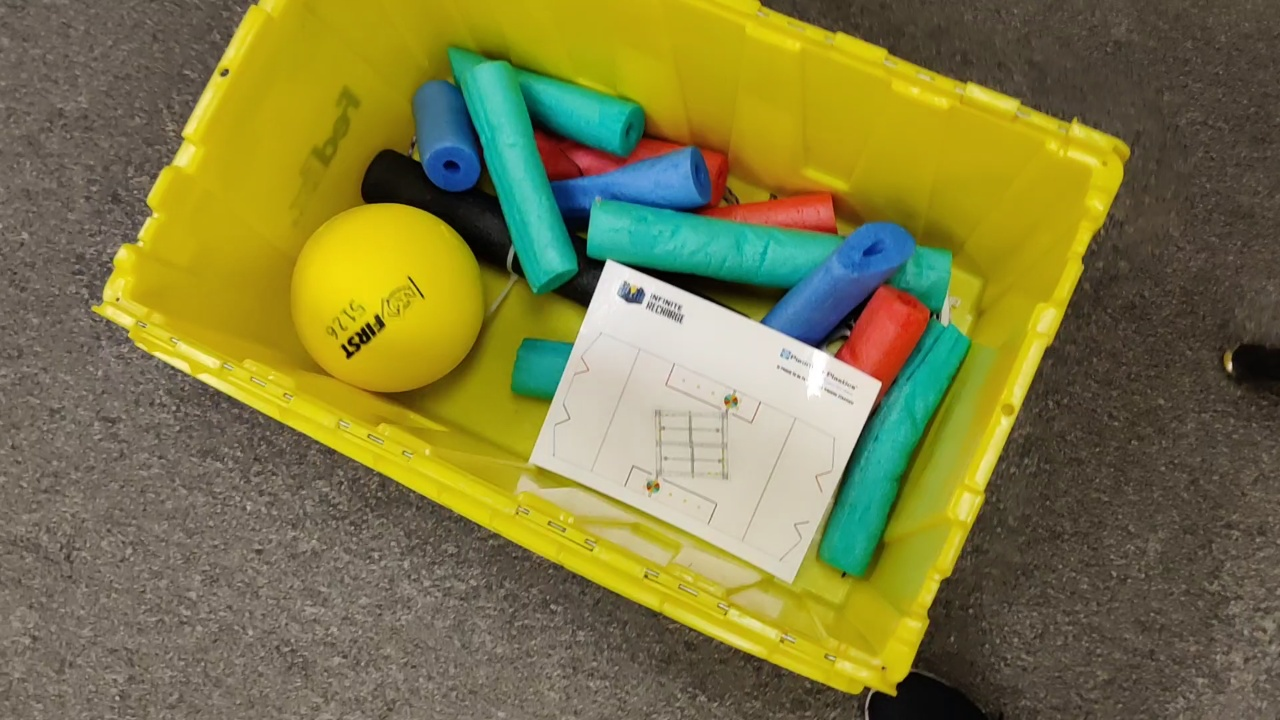Ball: (287, 205, 482, 392)
